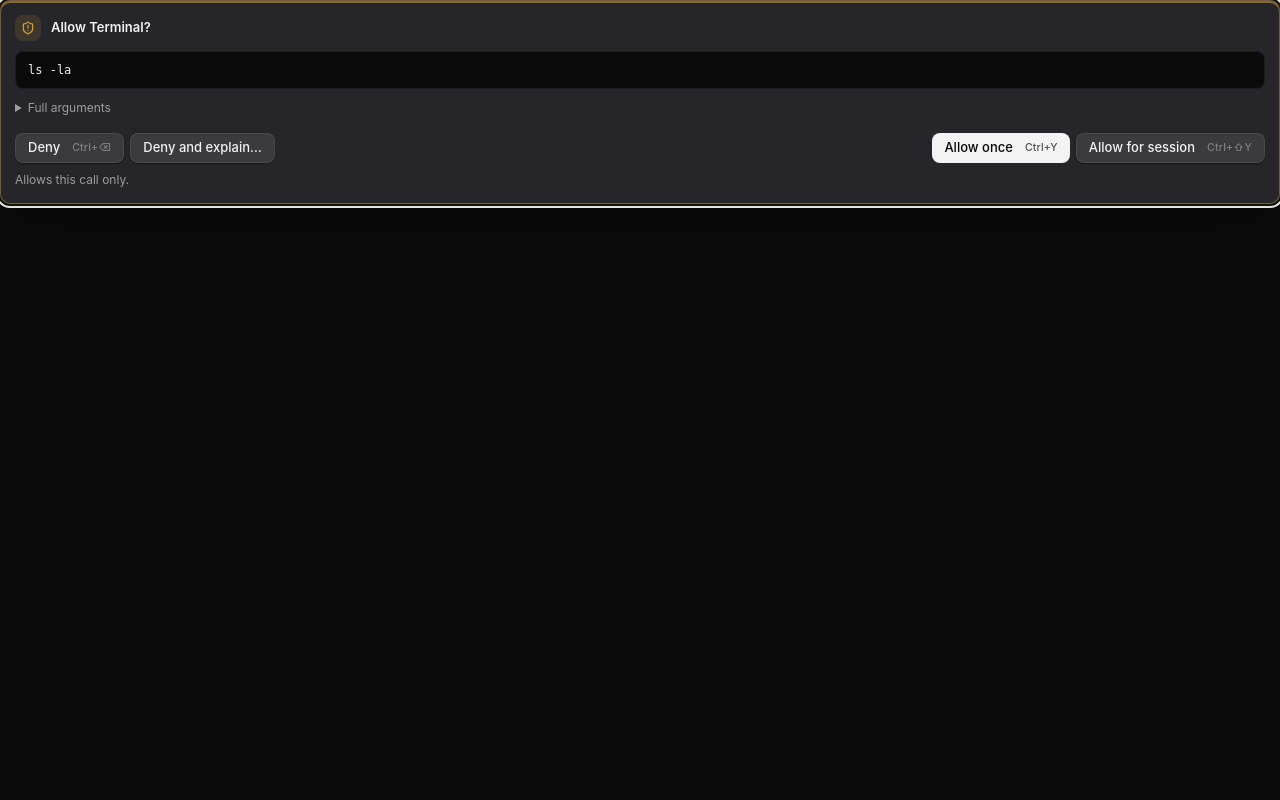
Test: denial explanations › opens an inline field and sends the denial with its explanation
Later steps or results of the test are not shown.
Click the button "Deny and explain…" at (203, 148), box [130,133,275,163]
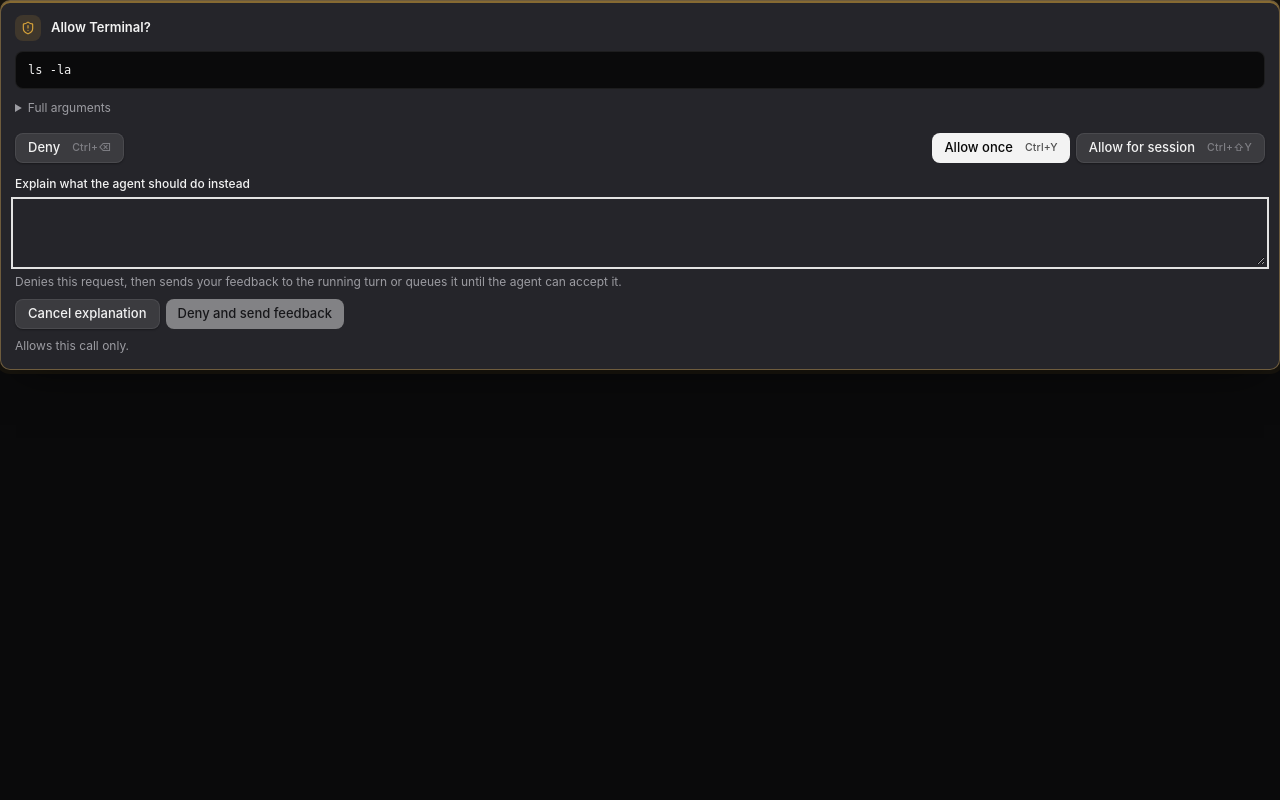
Now the button "Deny and send feedback" is disabled, box [166,299,344,329]
